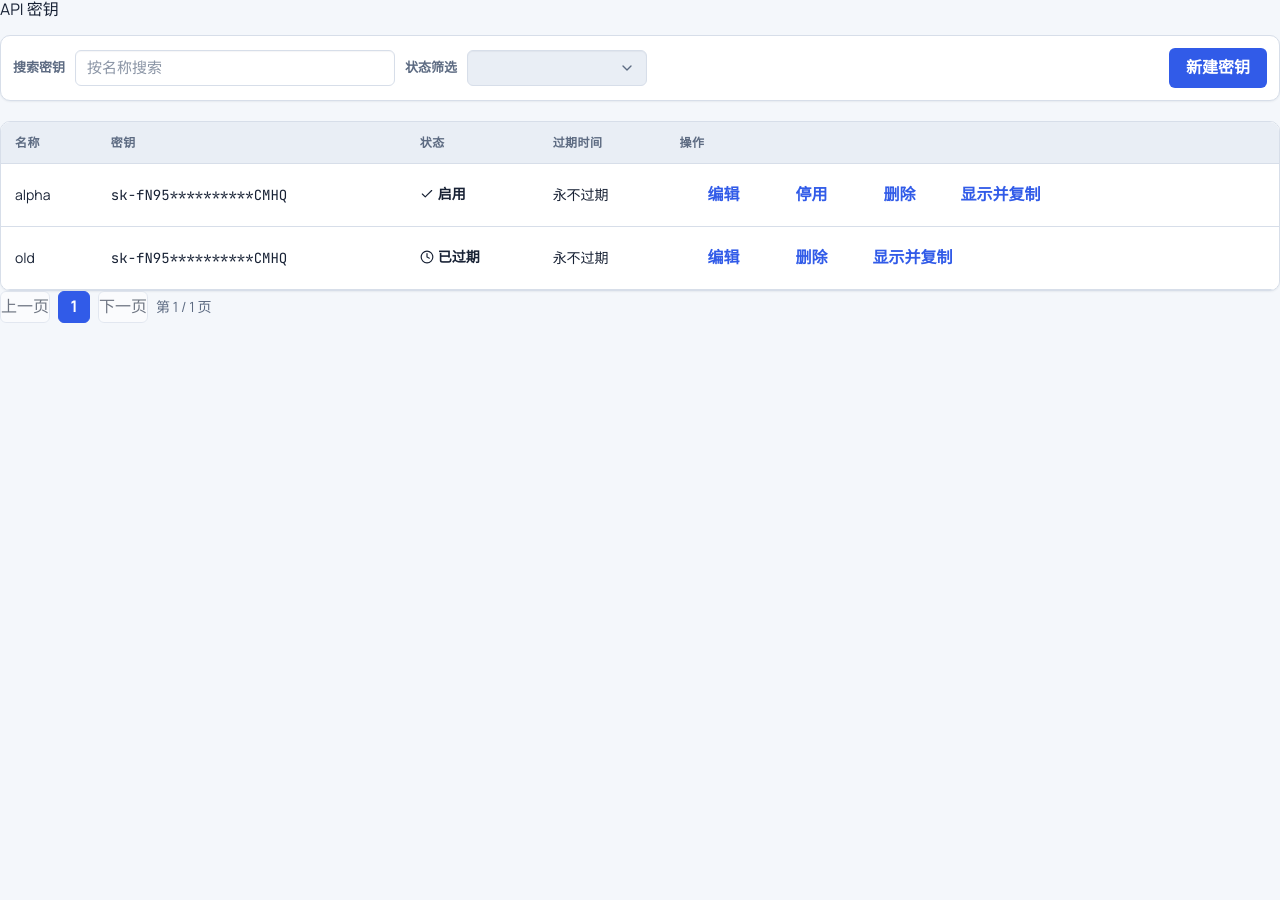
API Key 启停与删除确认 › 删除确认含名称，失败给刷新引导
Check: the text "alpha" is shown, box [1, 164, 97, 227]
Click the button with aria-label "删除 alpha". click: [900, 195]
box: [856, 175, 944, 215]
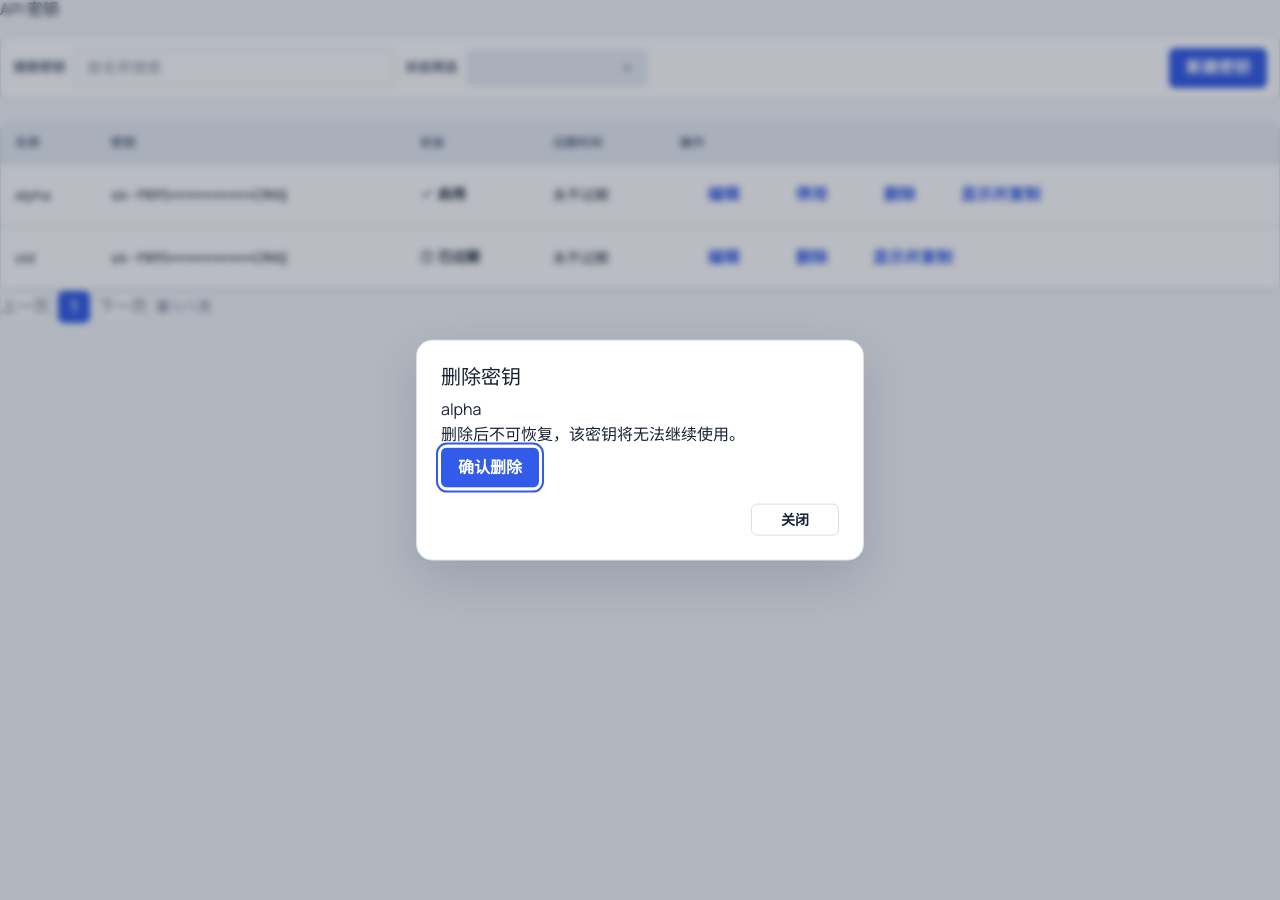
Check: the text "alpha" is shown, box [441, 397, 482, 419]
Check: the text "删除后不可恢复，该密钥将无法继续使用。" is shown, box [441, 423, 745, 445]
Click the button "确认删除". click: [490, 467]
box: [441, 447, 539, 487]
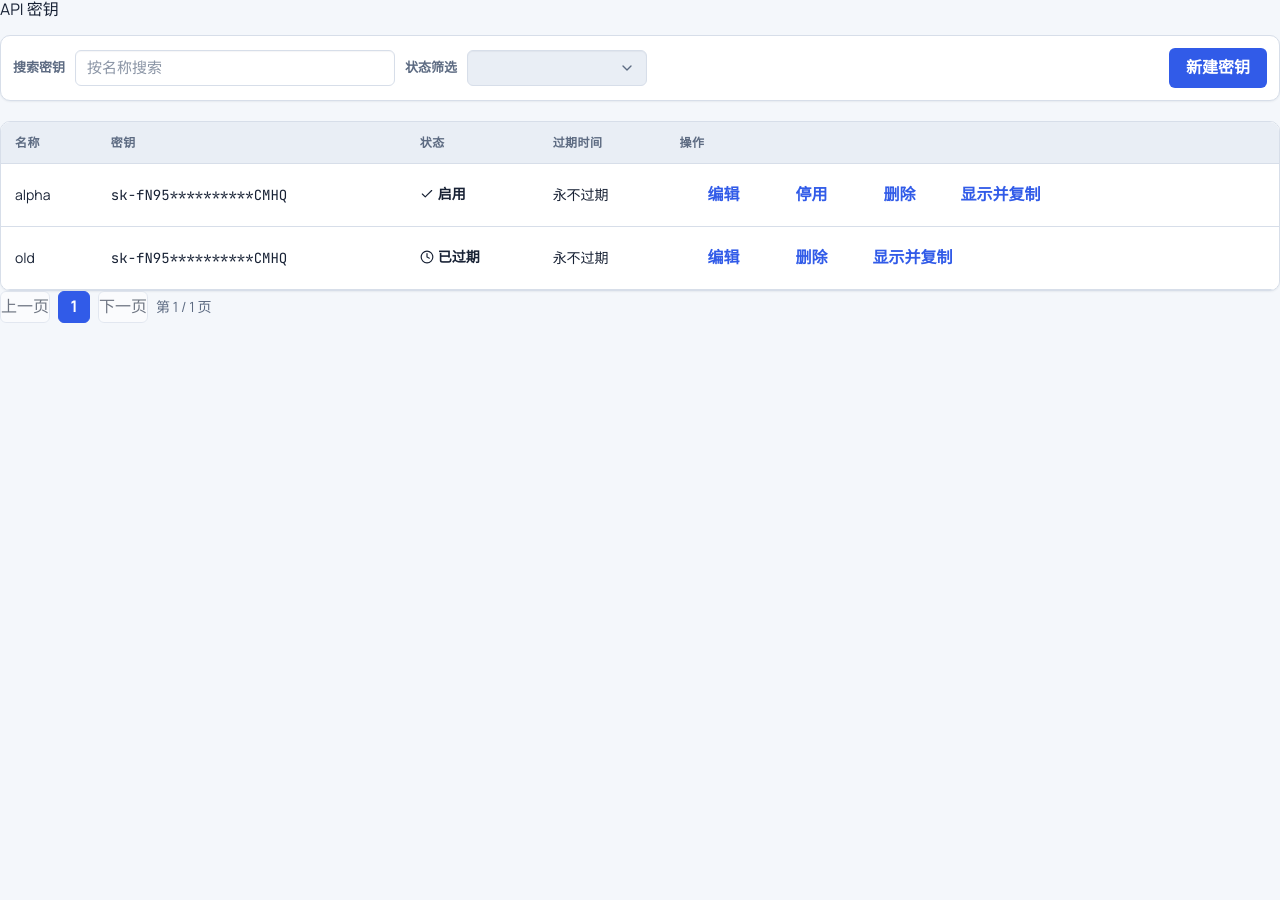
Click the button with aria-label "删除 alpha". click: [900, 195]
box: [856, 175, 944, 215]
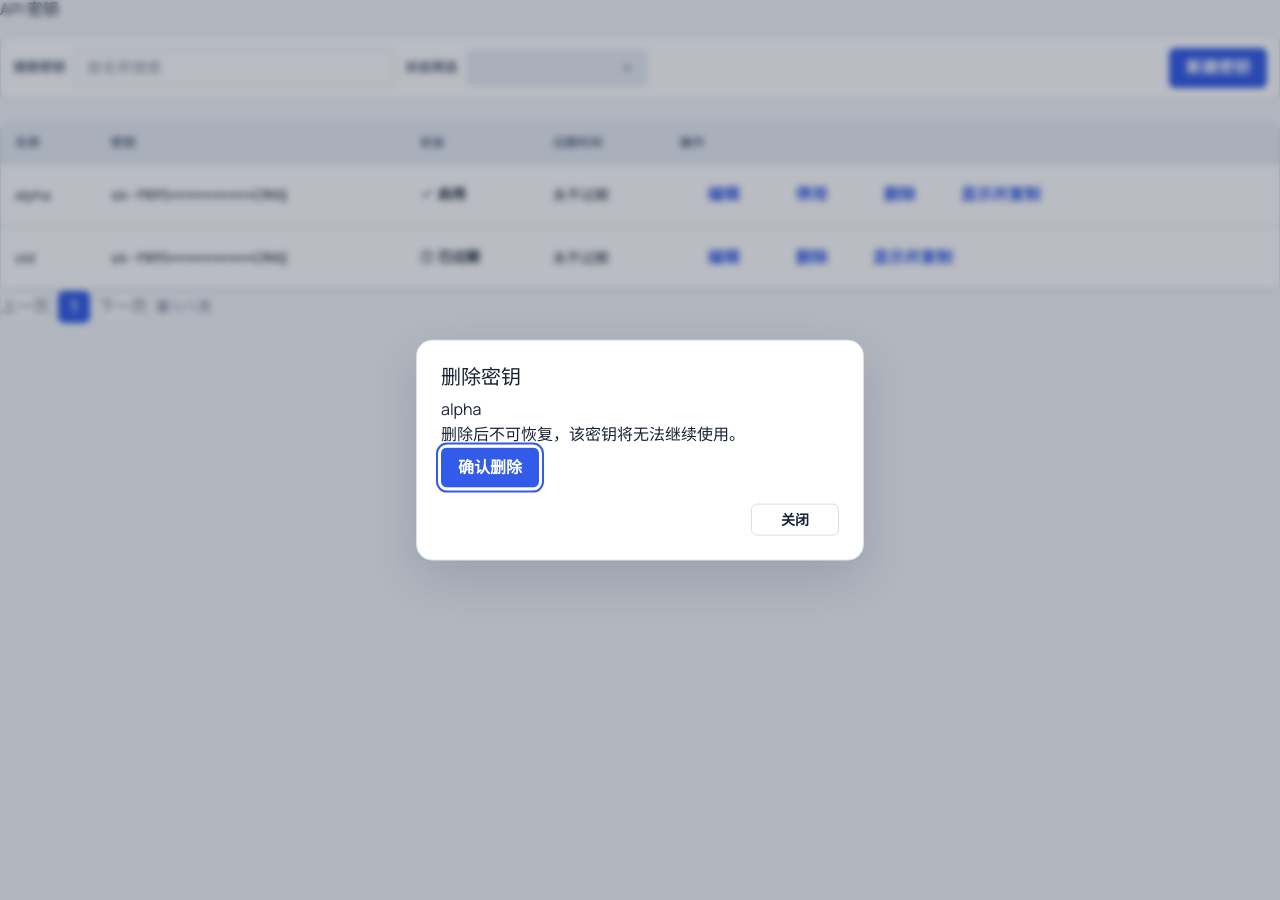
Click the button "确认删除". click: [490, 467]
box: [441, 447, 539, 487]
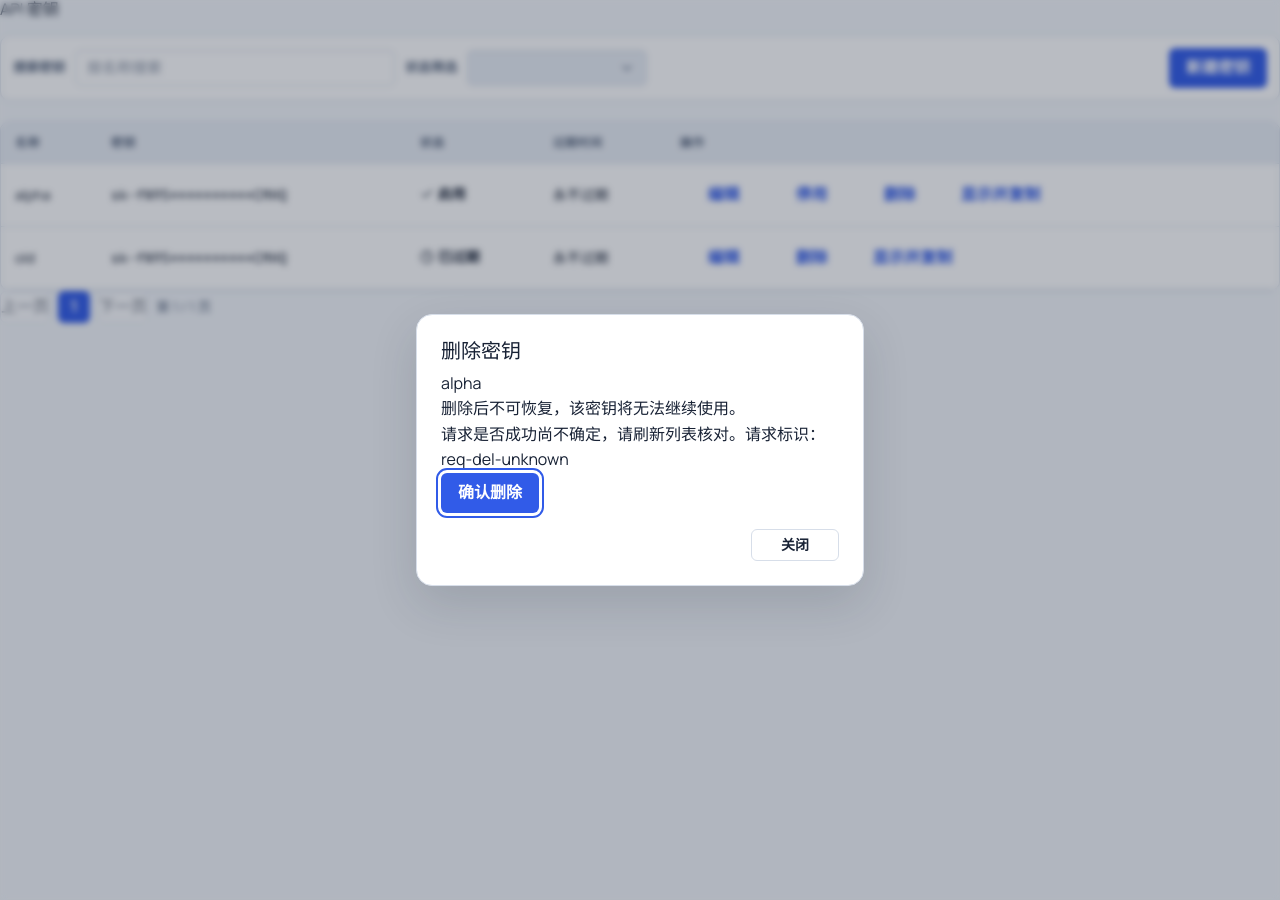
Check: the text "请求是否成功尚不确定，请刷新列表核对。请求标识：req-del-unknown" is shown, box [441, 422, 839, 473]
